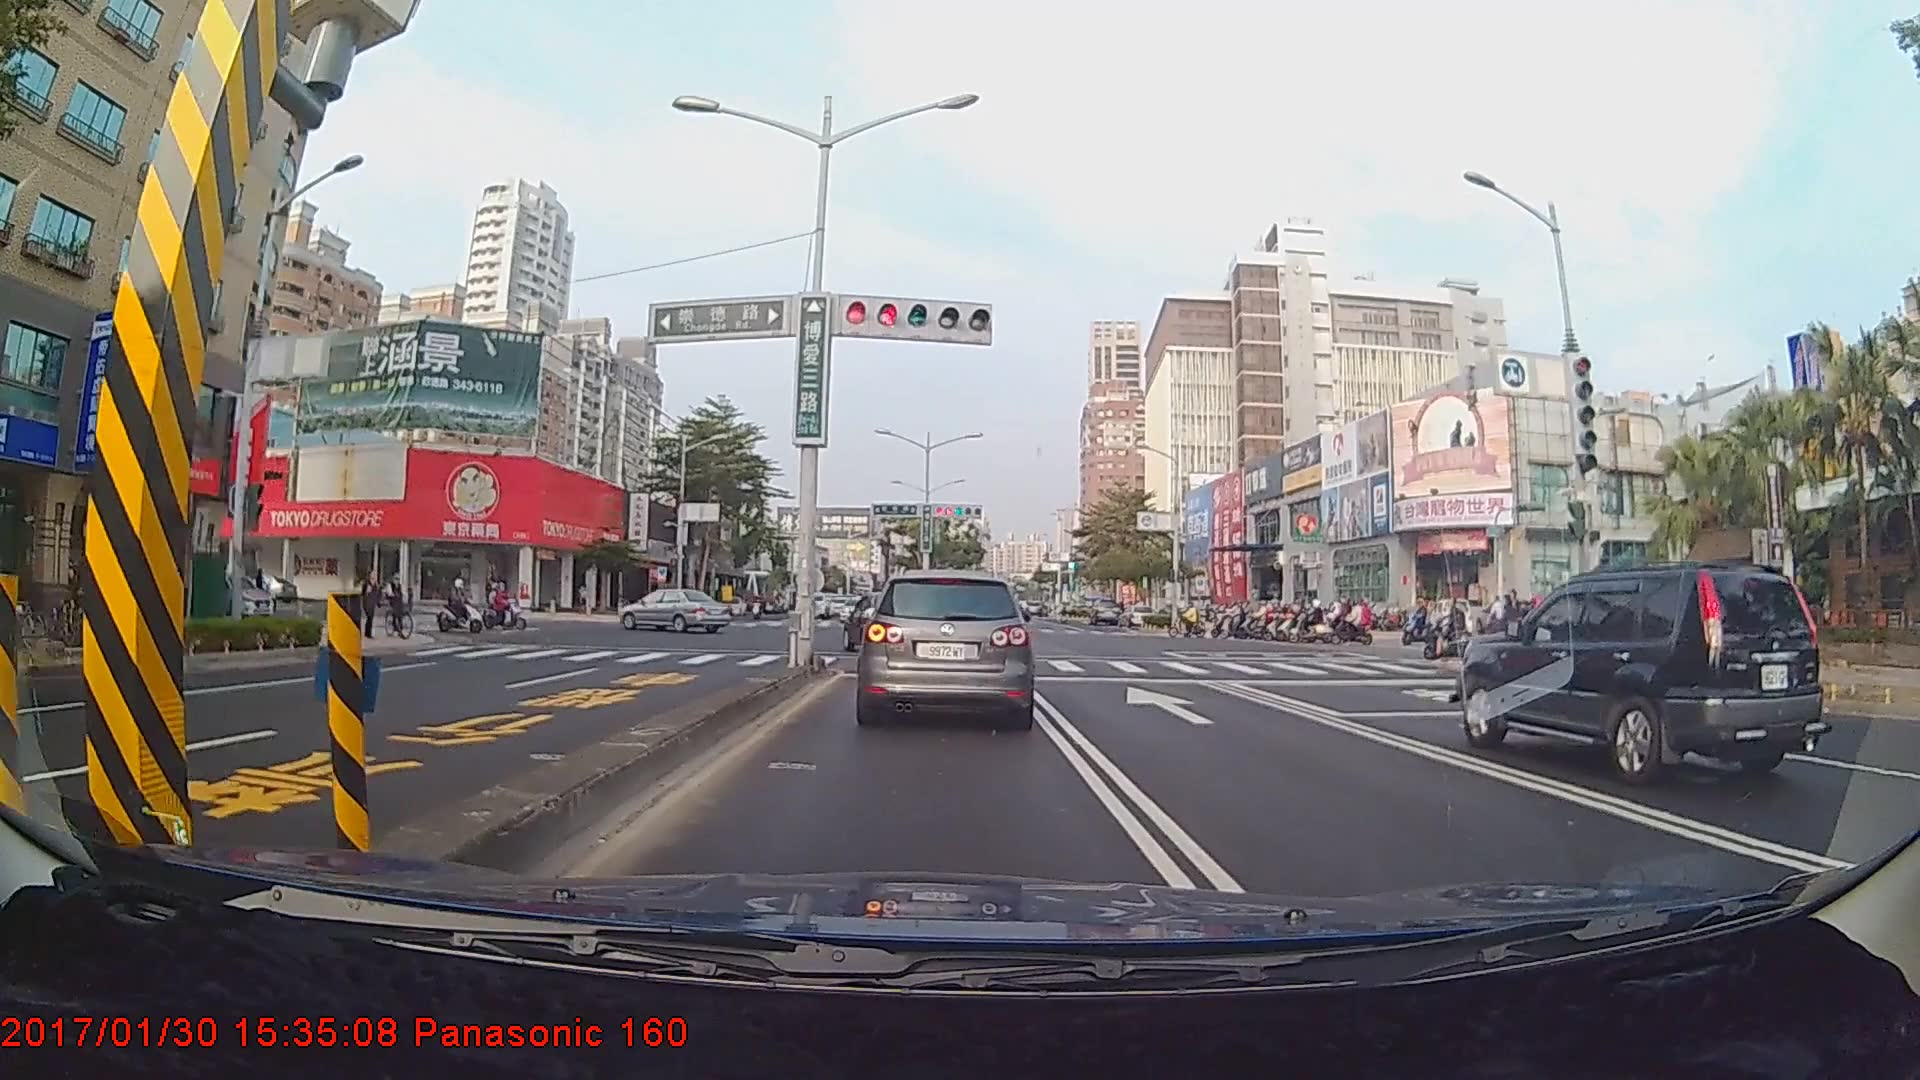pedestrian: (360, 566, 383, 643)
rider: (1426, 600, 1483, 662), (440, 576, 491, 637), (386, 566, 425, 638), (481, 576, 528, 631), (1333, 593, 1378, 646), (1304, 601, 1350, 643), (1173, 600, 1209, 637)
vehicle: (1451, 564, 1830, 789), (854, 562, 1033, 731), (618, 586, 731, 635), (1088, 598, 1122, 626)
